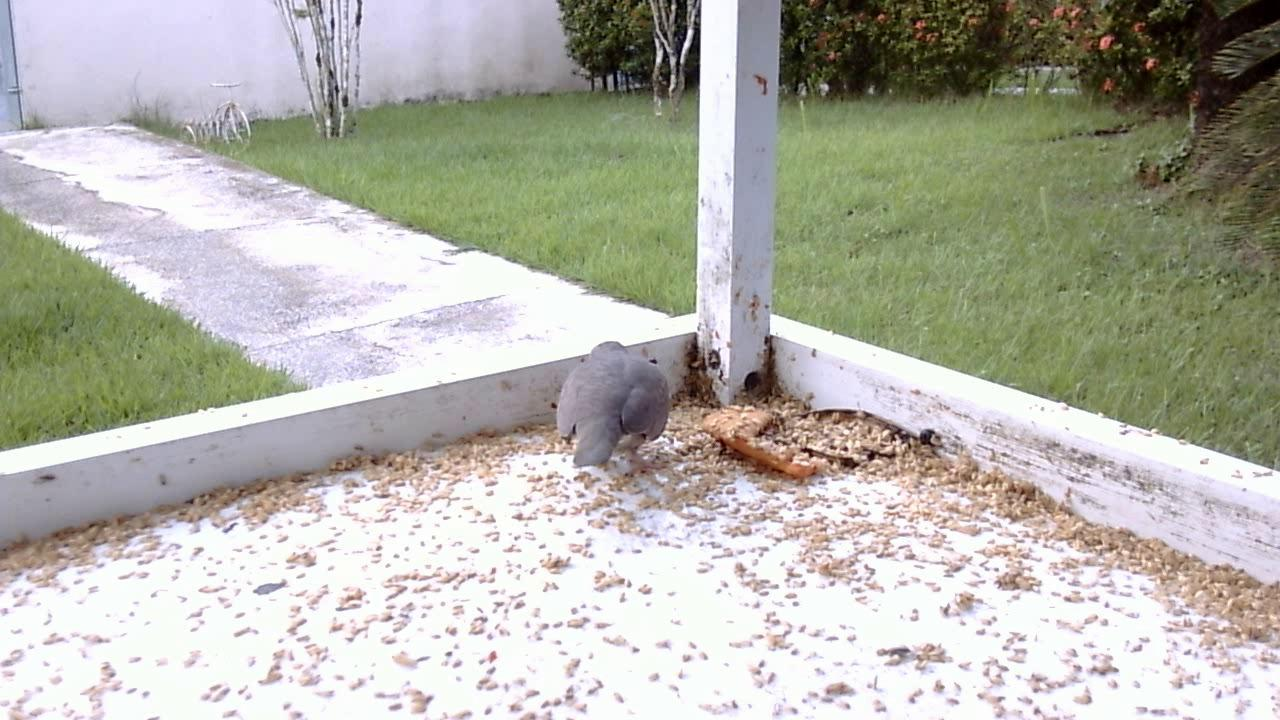rolinha: (545, 330, 677, 475)
